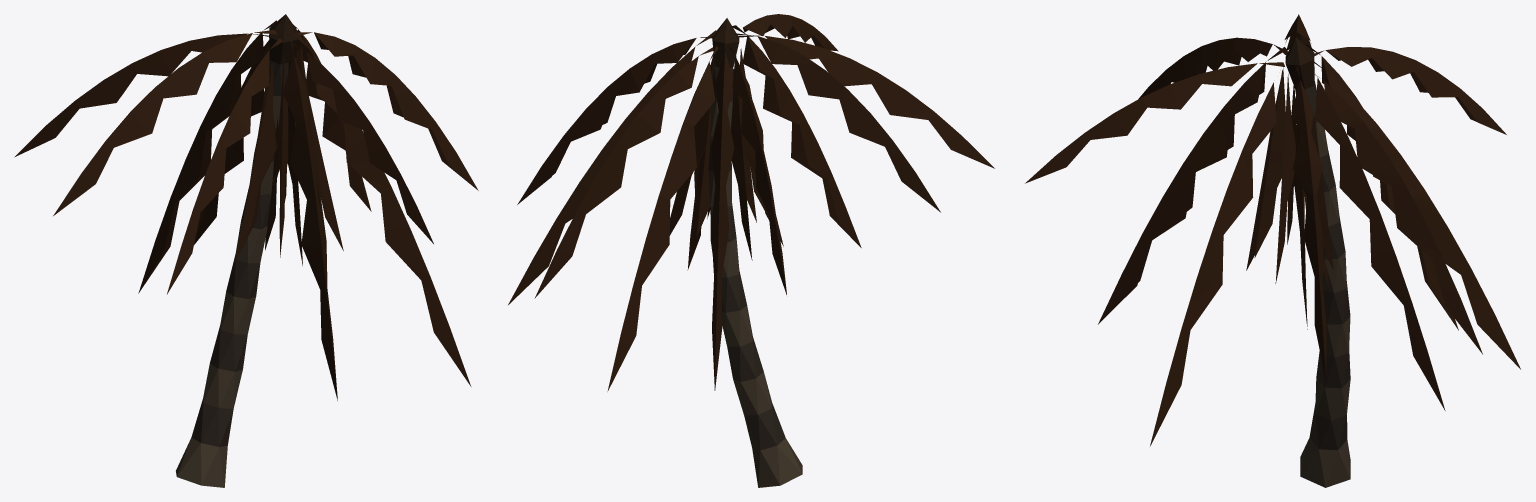
The model's file is SM_Palm_Dead_B.fbx.
3 views of the same model, side by side, from view 1: azimuth 30°, elevation 25°; view 2: azimuth 150°, elevation 25°; view 3: azimuth 270°, elevation 25° (orthographic). The views are drawn at different scales.
Visible parts, largest first — view 1: SM_Palm_Dead_B_LOD0; view 2: SM_Palm_Dead_B_LOD0; view 3: SM_Palm_Dead_B_LOD0.
Part boxes in pixels (left/top/right/bottom): SM_Palm_Dead_B_LOD0: left=14, top=14, right=478, bottom=487; SM_Palm_Dead_B_LOD0: left=508, top=14, right=994, bottom=487; SM_Palm_Dead_B_LOD0: left=1025, top=14, right=1520, bottom=487.
Size of the model in its own units: 669 by 646 by 681.
